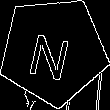N_N: (29, 21, 78, 80)
